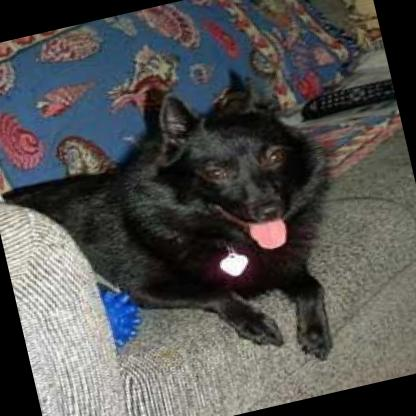schipperke: (0, 51, 365, 416)
